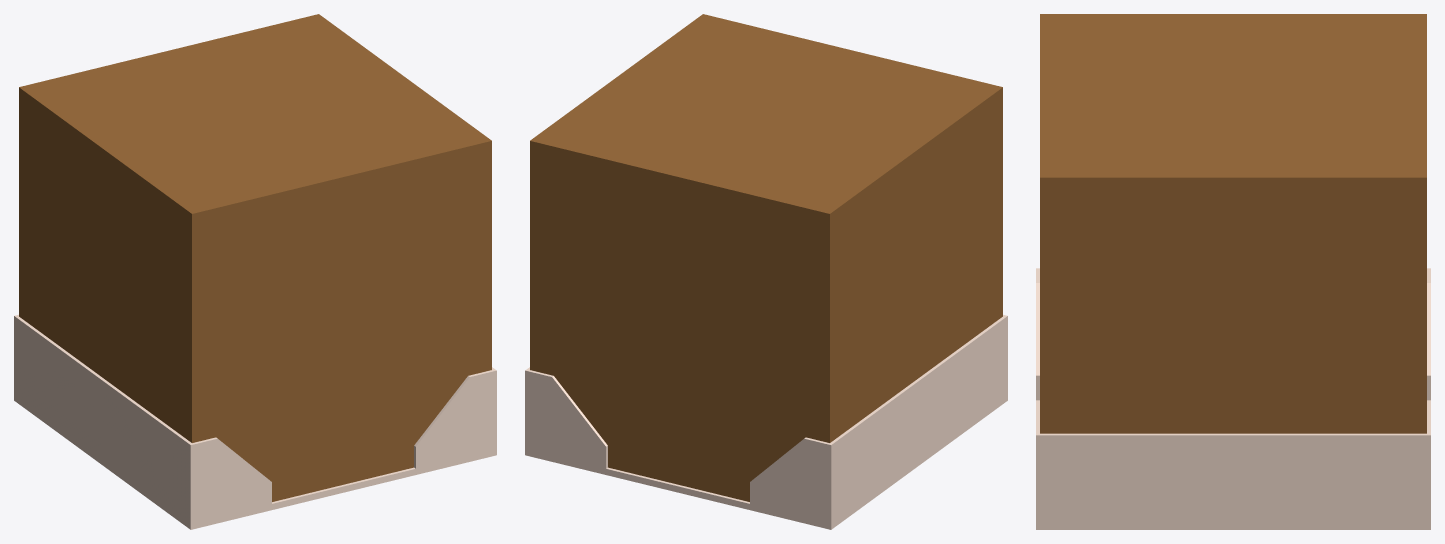
3 views of the same model, side by side, from view 1: azimuth 30°, elevation 25°; view 2: azimuth 150°, elevation 25°; view 3: azimuth 270°, elevation 25° (orthographic). The views are drawn at different scales.
Parts seen in each view (by area): view 1: Box3, Box3_Cover; view 2: Box3, Box3_Cover; view 3: Box3, Box3_Cover.
Part boxes in pixels (box(x1,y1,x2,y2)): Box3: box(19, 14, 491, 501); Box3_Cover: box(14, 314, 496, 529); Box3: box(530, 14, 1002, 501); Box3_Cover: box(525, 314, 1007, 529); Box3: box(1040, 14, 1426, 433); Box3_Cover: box(1036, 268, 1430, 529).
Bounding box in the file's own units: 102 × 100 × 102.
